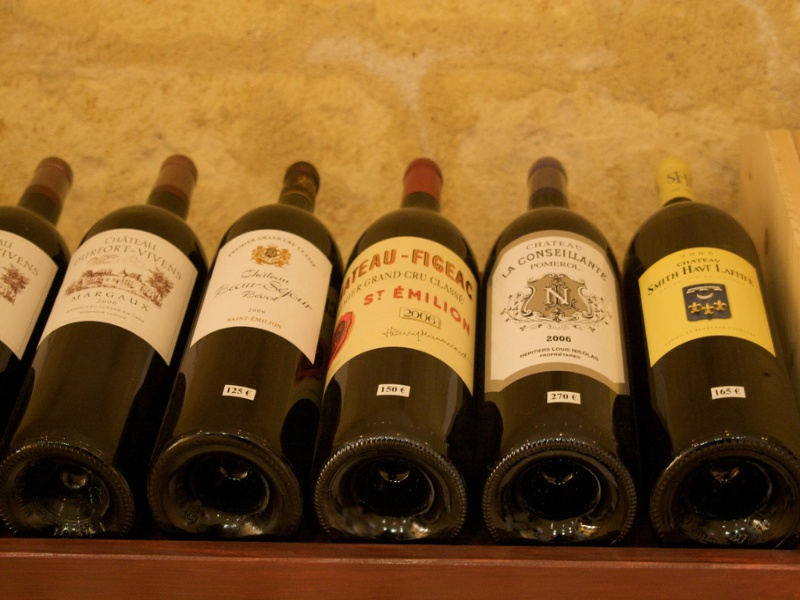wine: (1, 153, 792, 550)
